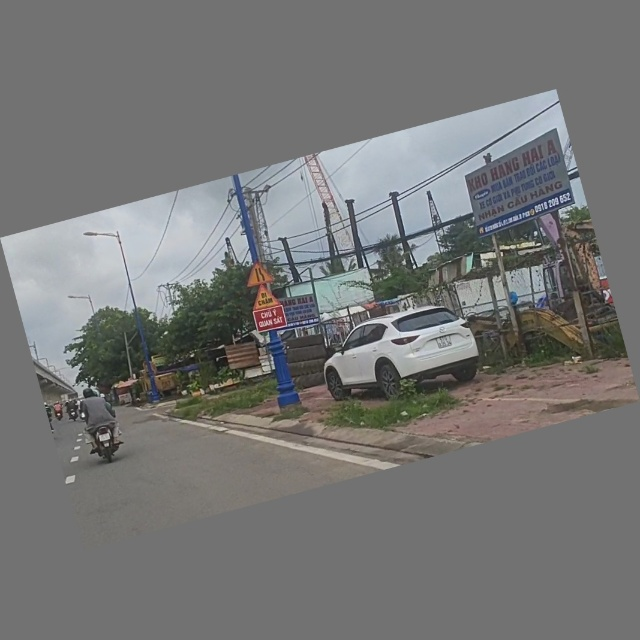W.203c: (241, 258, 275, 288)
W.245a: (247, 281, 284, 313)
